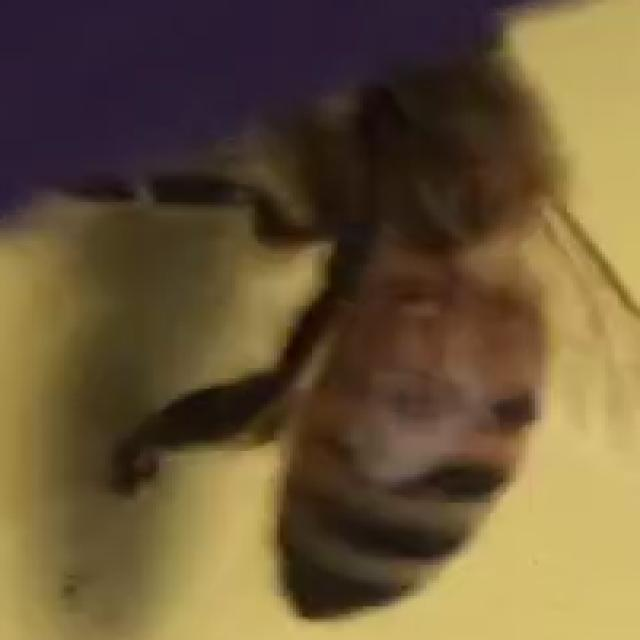honeybee: (81, 43, 547, 614)
